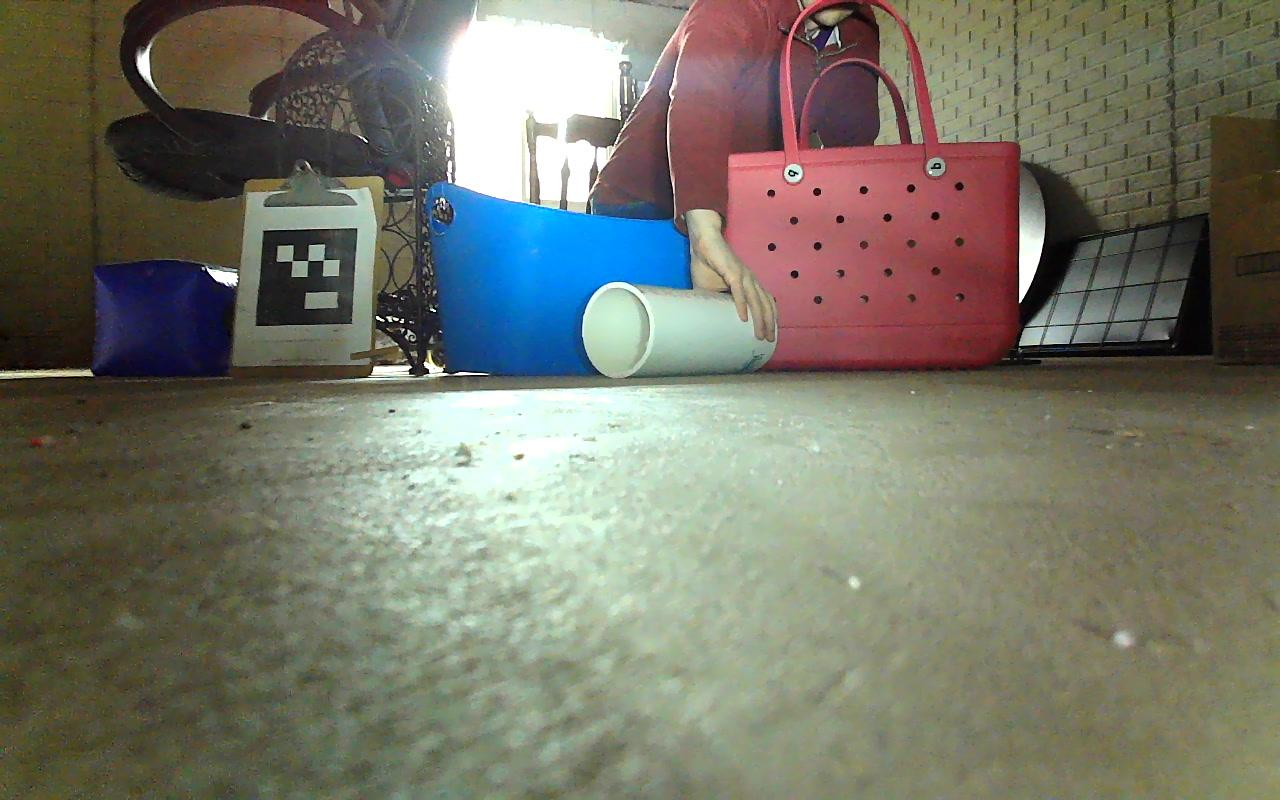coral: (582, 282, 777, 377)
